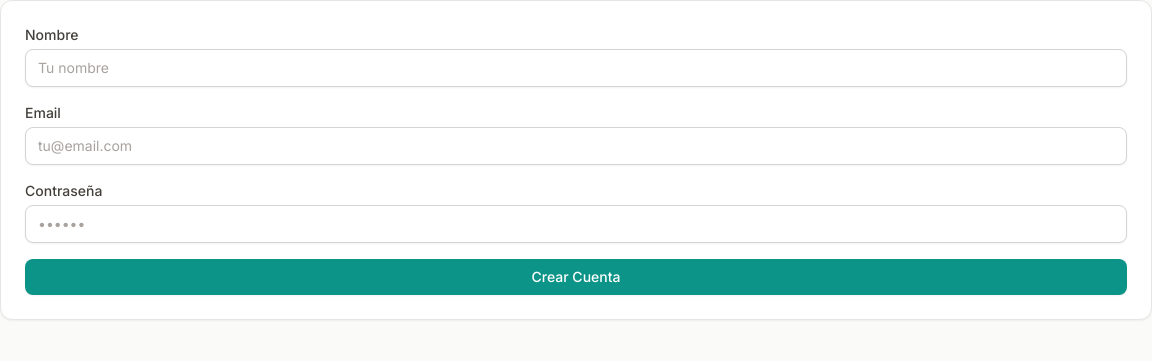
Test: RegisterForm › muestra error si password < 6 caracteres
In the field labelled "Nombre": (576, 68) [25, 49, 1127, 87], type "Test"
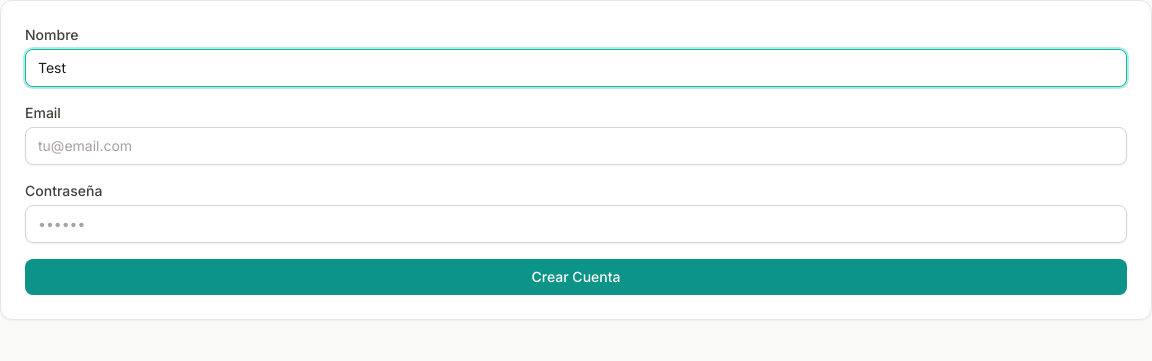
In the field labelled "Email": (576, 146) [25, 127, 1127, 165], type "test@test.com"
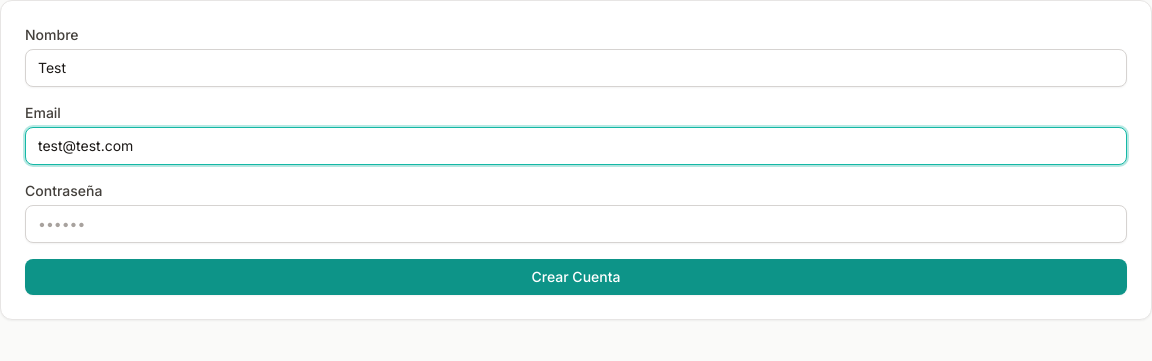
In the password field labelled "Contraseña": (576, 224) [25, 205, 1127, 243], type "123"
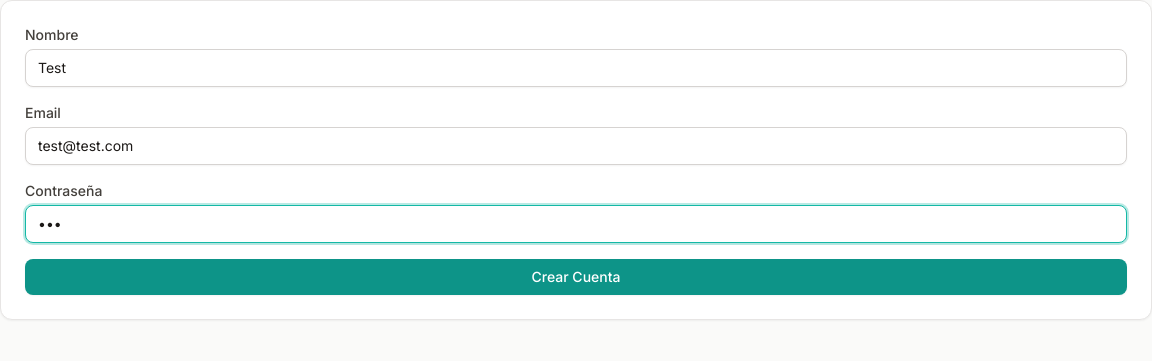
Click the button "Crear Cuenta": (576, 277) [25, 259, 1127, 295]
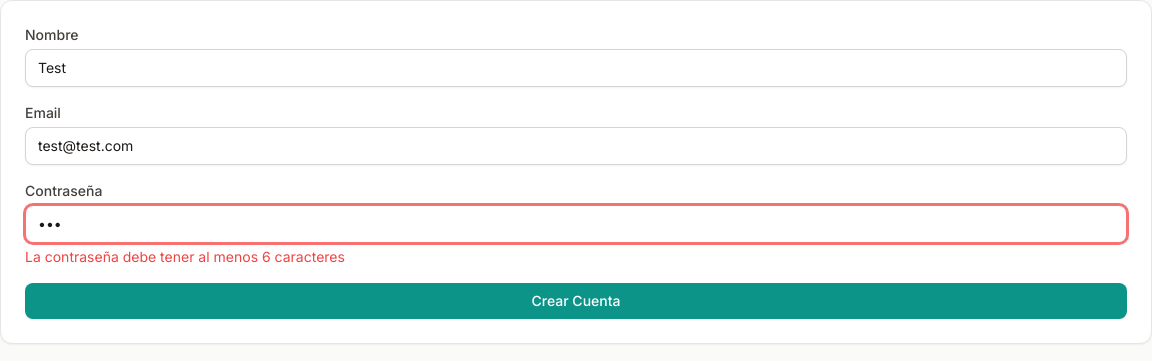
Expected: the text "La contraseña debe tener al menos 6 caracteres" is shown, [25, 248, 345, 265]
